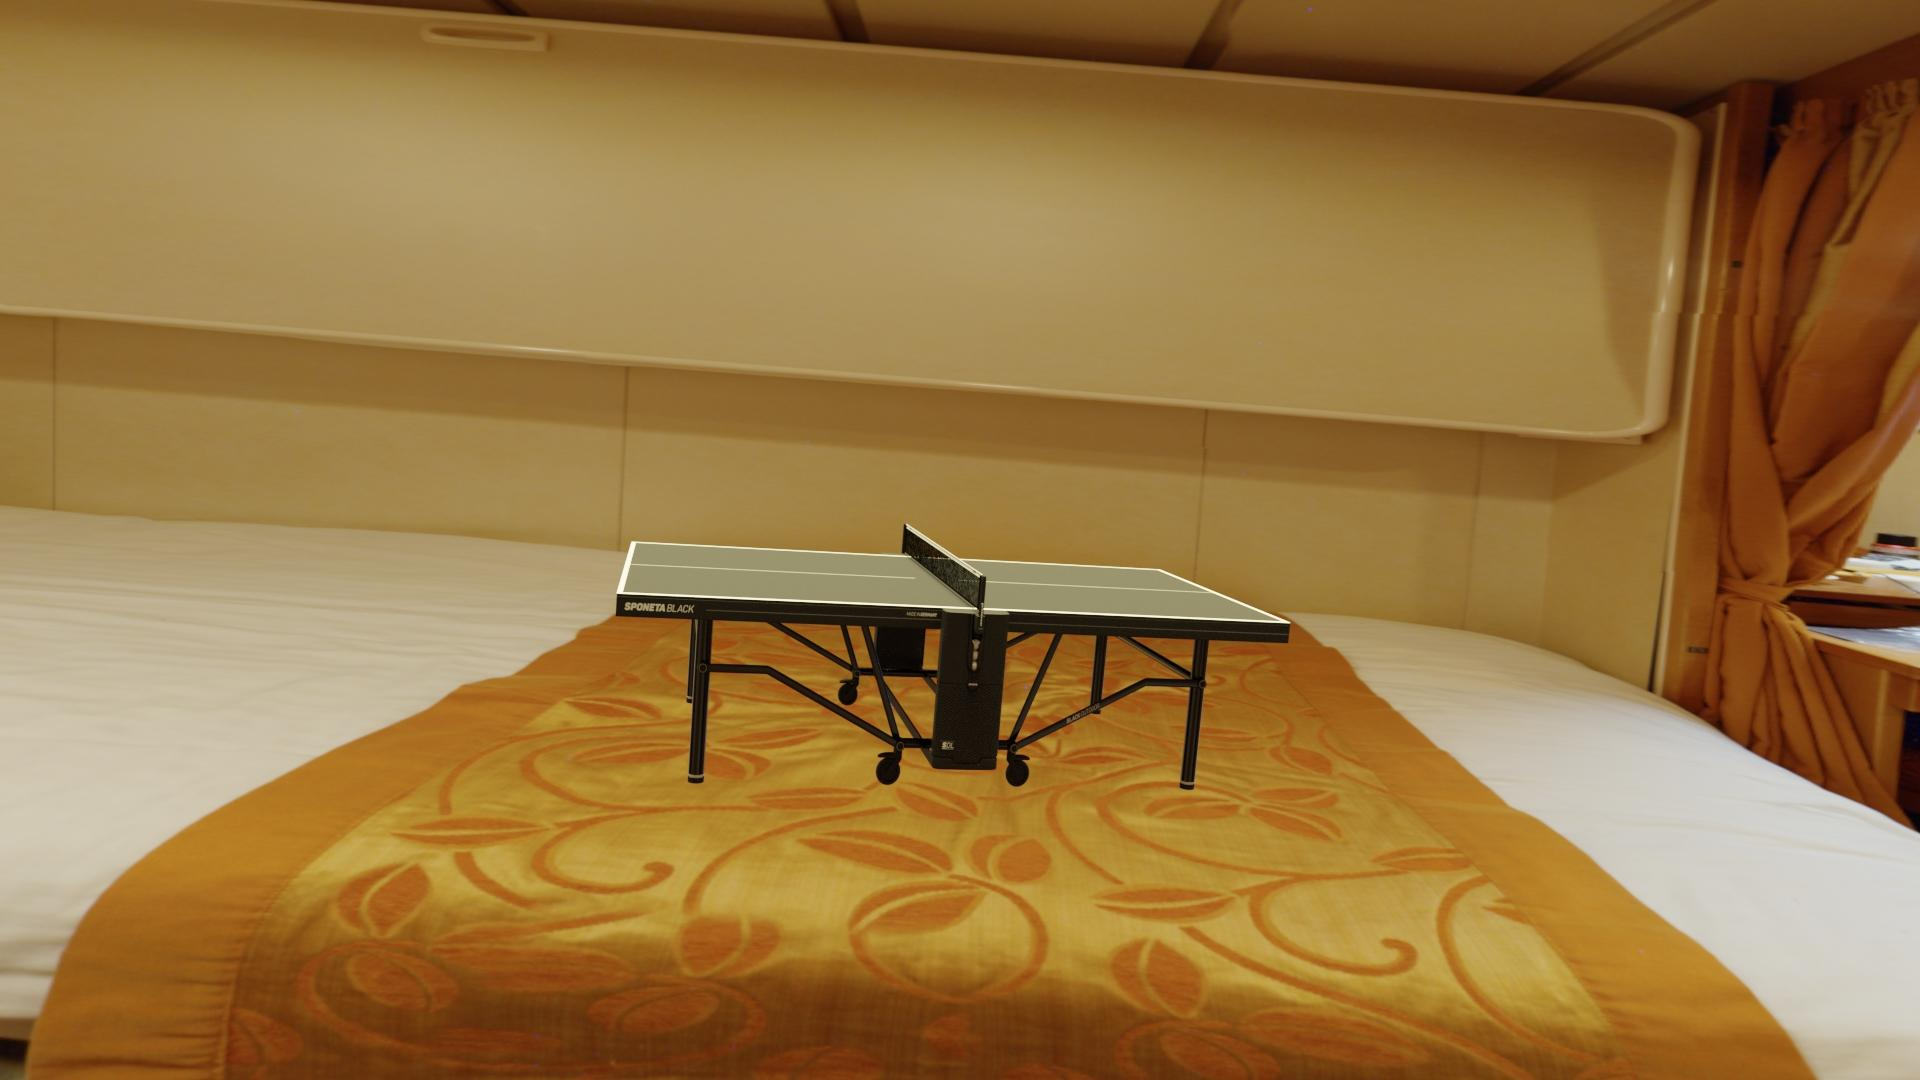table: (622, 542, 1284, 621)
